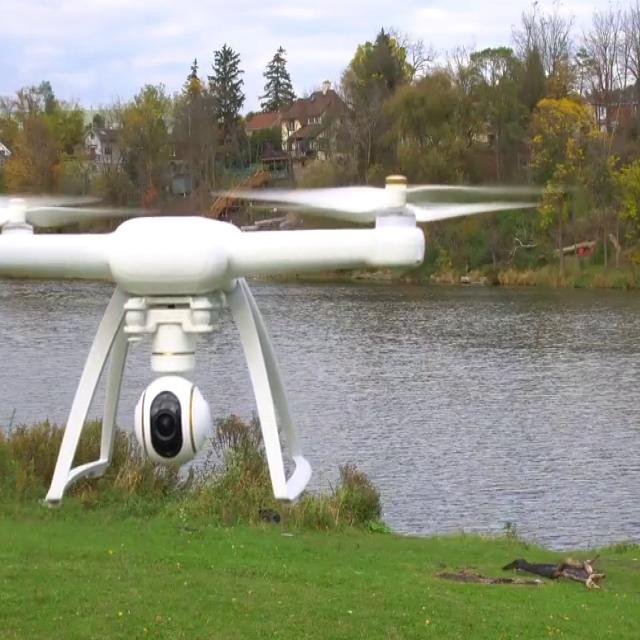drone: (0, 155, 559, 333)
